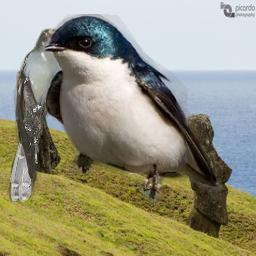Cuckoo: (8, 26, 74, 202)
Swallow: (45, 14, 222, 202)
